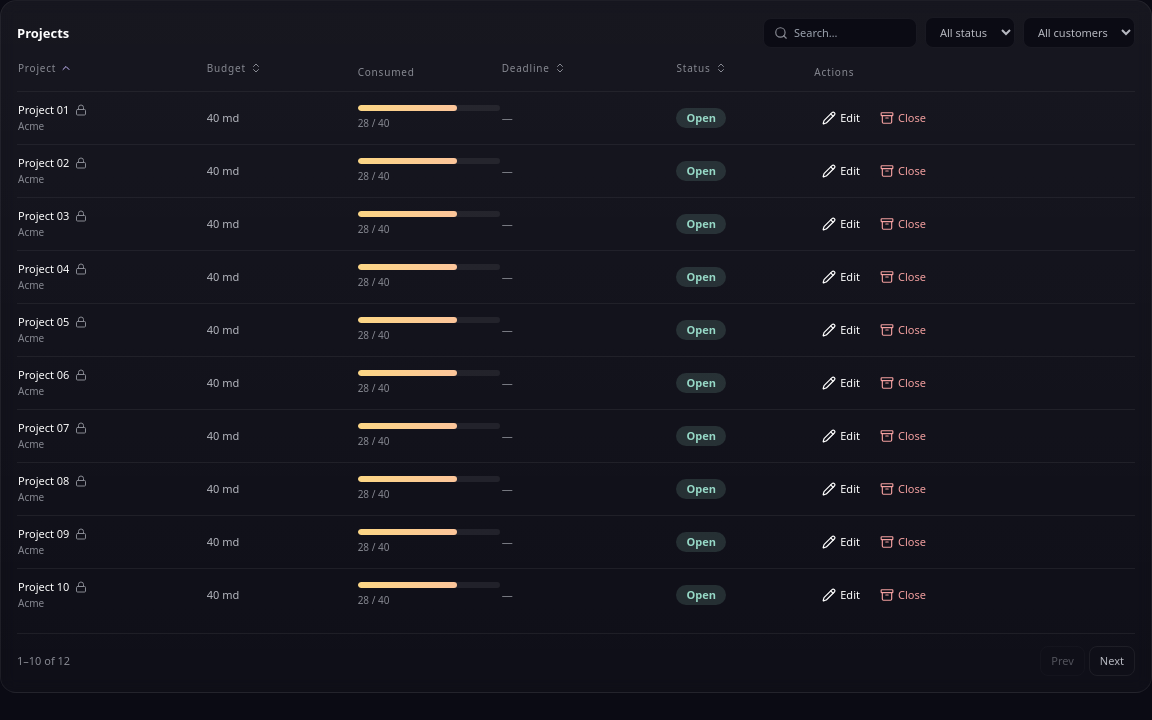
Test case: ProjectsTable › paginates: 12 rows → Prev/Next navigation
Check: the text "1–10 of 12" is shown, box x1=17 y1=651 x2=70 y2=671
Check: the text "Project 11" is not shown
// Go to page 2
Click the button "Next". click: {"x": 1112, "y": 661}
box: x1=1089 y1=646 x2=1135 y2=676
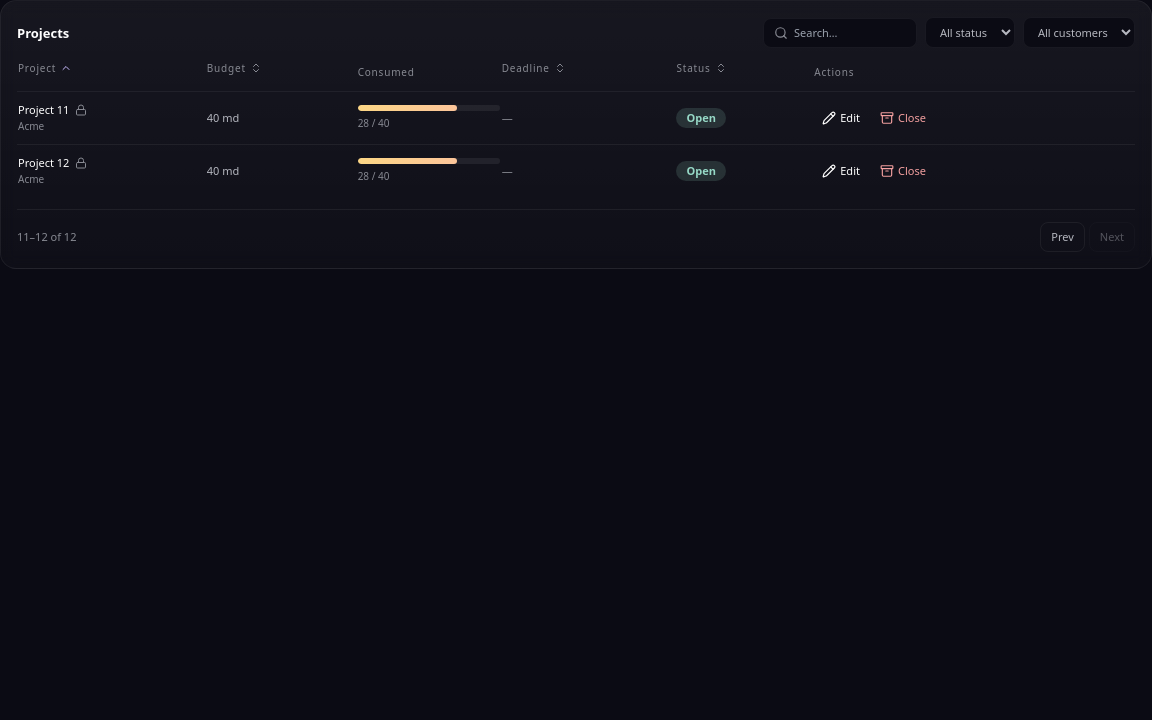
Check: the text "Project 11" is shown, box x1=18 y1=102 x2=69 y2=118
Check: the text "11–12 of 12" is shown, box x1=17 y1=227 x2=76 y2=247
Check: the text "Project 01" is gone
//  Go back
Click the button "Prev". click: {"x": 1063, "y": 237}
box: x1=1040 y1=222 x2=1085 y2=252
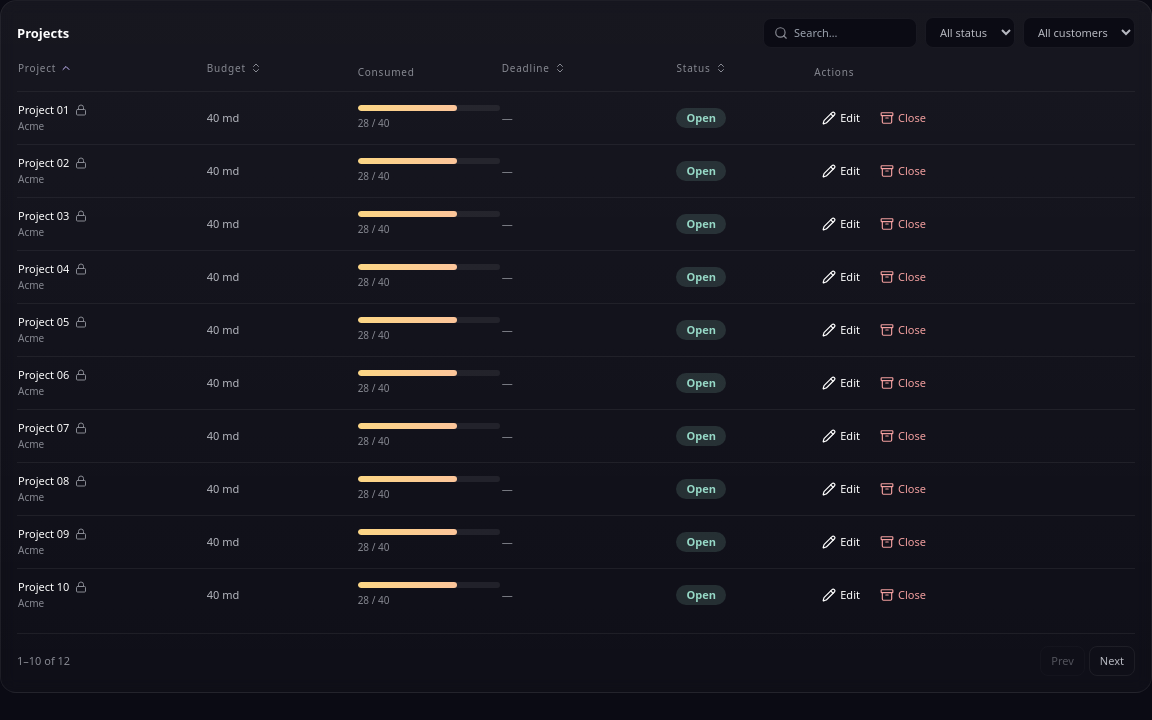
Check: the text "1–10 of 12" is shown, box x1=17 y1=651 x2=70 y2=671
